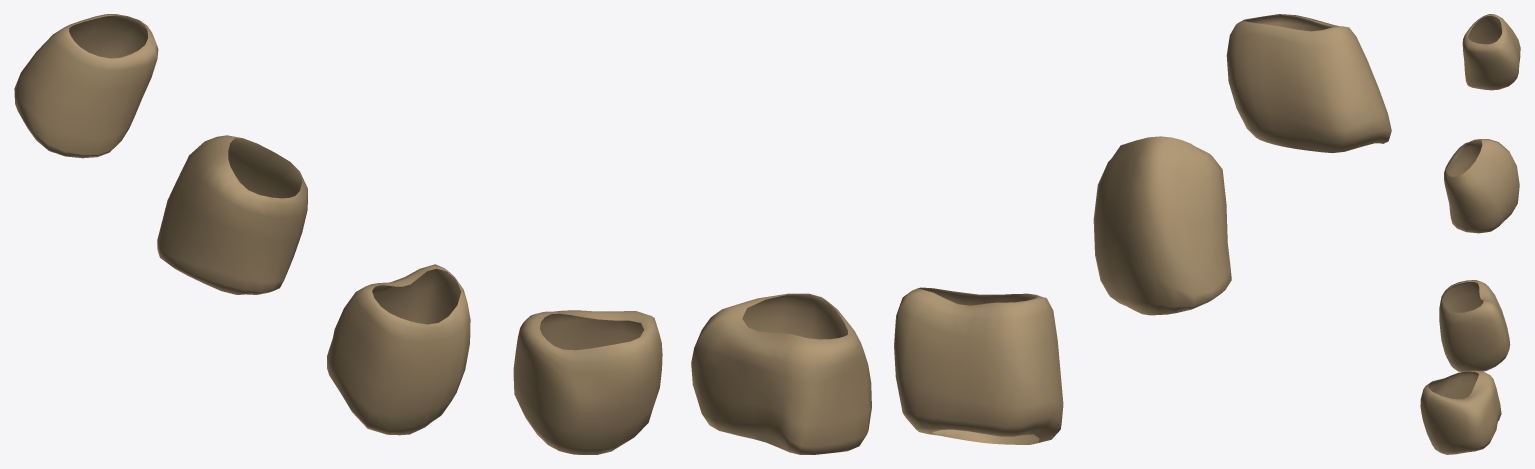
The picture shows the model from 3 angles, left to right: view 1: azimuth 30°, elevation 25°; view 2: azimuth 150°, elevation 25°; view 3: azimuth 270°, elevation 25°; orthographic projection. The views are drawn at different scales.
Parts seen in each view (by area): view 1: 右侧足近侧趾间关节囊; view 2: 右侧足近侧趾间关节囊; view 3: 右侧足近侧趾间关节囊.
Part boxes in pixels (x1,y1,x2,y2): 右侧足近侧趾间关节囊: (14, 14, 662, 454); 右侧足近侧趾间关节囊: (691, 14, 1391, 454); 右侧足近侧趾间关节囊: (1420, 14, 1520, 454).
Size of the model in its own units: 0.0762 by 0.0602 by 0.0185.
